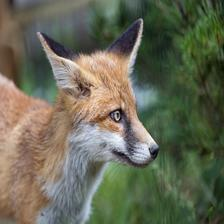fox: (1, 19, 171, 224)
